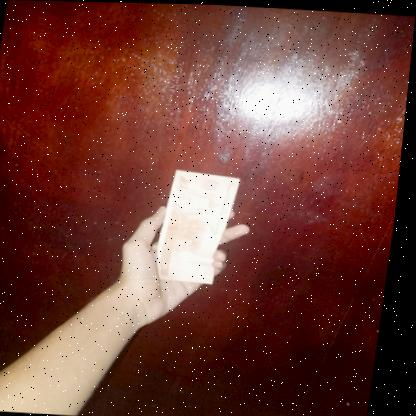twenty-back-vef: (158, 168, 245, 285)
